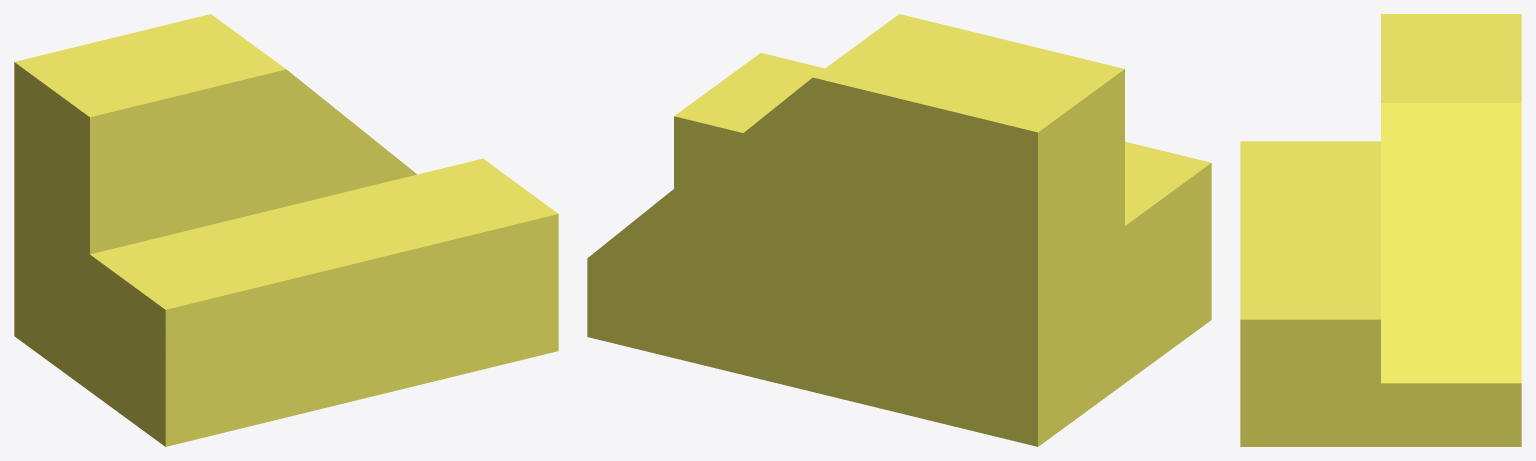
3 views of the same model, side by side, from view 1: azimuth 30°, elevation 25°; view 2: azimuth 150°, elevation 25°; view 3: azimuth 270°, elevation 25° (orthographic). The views are drawn at different scales.
Visible parts, largest first — view 1: 880; view 2: 880; view 3: 880.
Boxes of the visible parts, x1,y1,x2,y2 form: 880: (14,14,558,446); 880: (587,14,1211,446); 880: (1240,14,1521,446).
Bounding box in the file's own units: 0.06 × 0.04 × 0.04.
